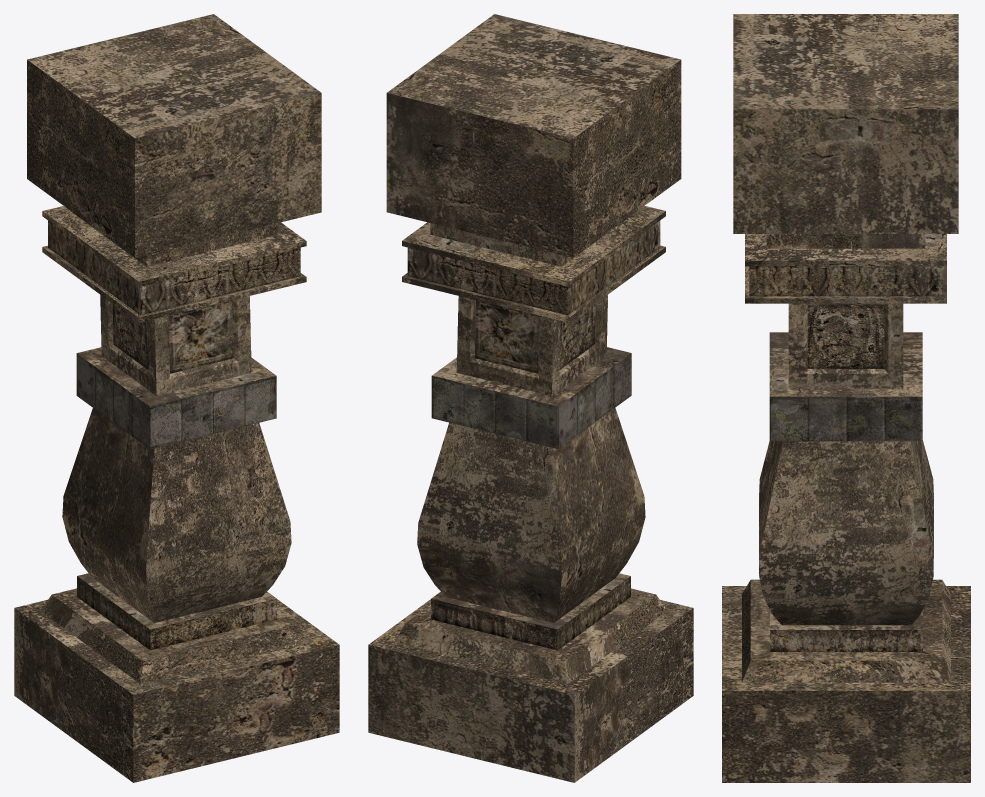
File: materials_5_pillar_short_19.fbx
The picture shows the model from 3 angles, left to right: view 1: azimuth 30°, elevation 25°; view 2: azimuth 150°, elevation 25°; view 3: azimuth 270°, elevation 25°; orthographic projection. The views are drawn at different scales.
Parts seen in each view (by area): view 1: materials_5_pillar_short_19; view 2: materials_5_pillar_short_19; view 3: materials_5_pillar_short_19.
Part boxes in pixels (x1=…): materials_5_pillar_short_19: x1=14, y1=14, x2=339, y2=782; materials_5_pillar_short_19: x1=368, y1=14, x2=693, y2=782; materials_5_pillar_short_19: x1=722, y1=14, x2=970, y2=782.
Bounding box in the file's own units: 37.27 × 110 × 37.27.
